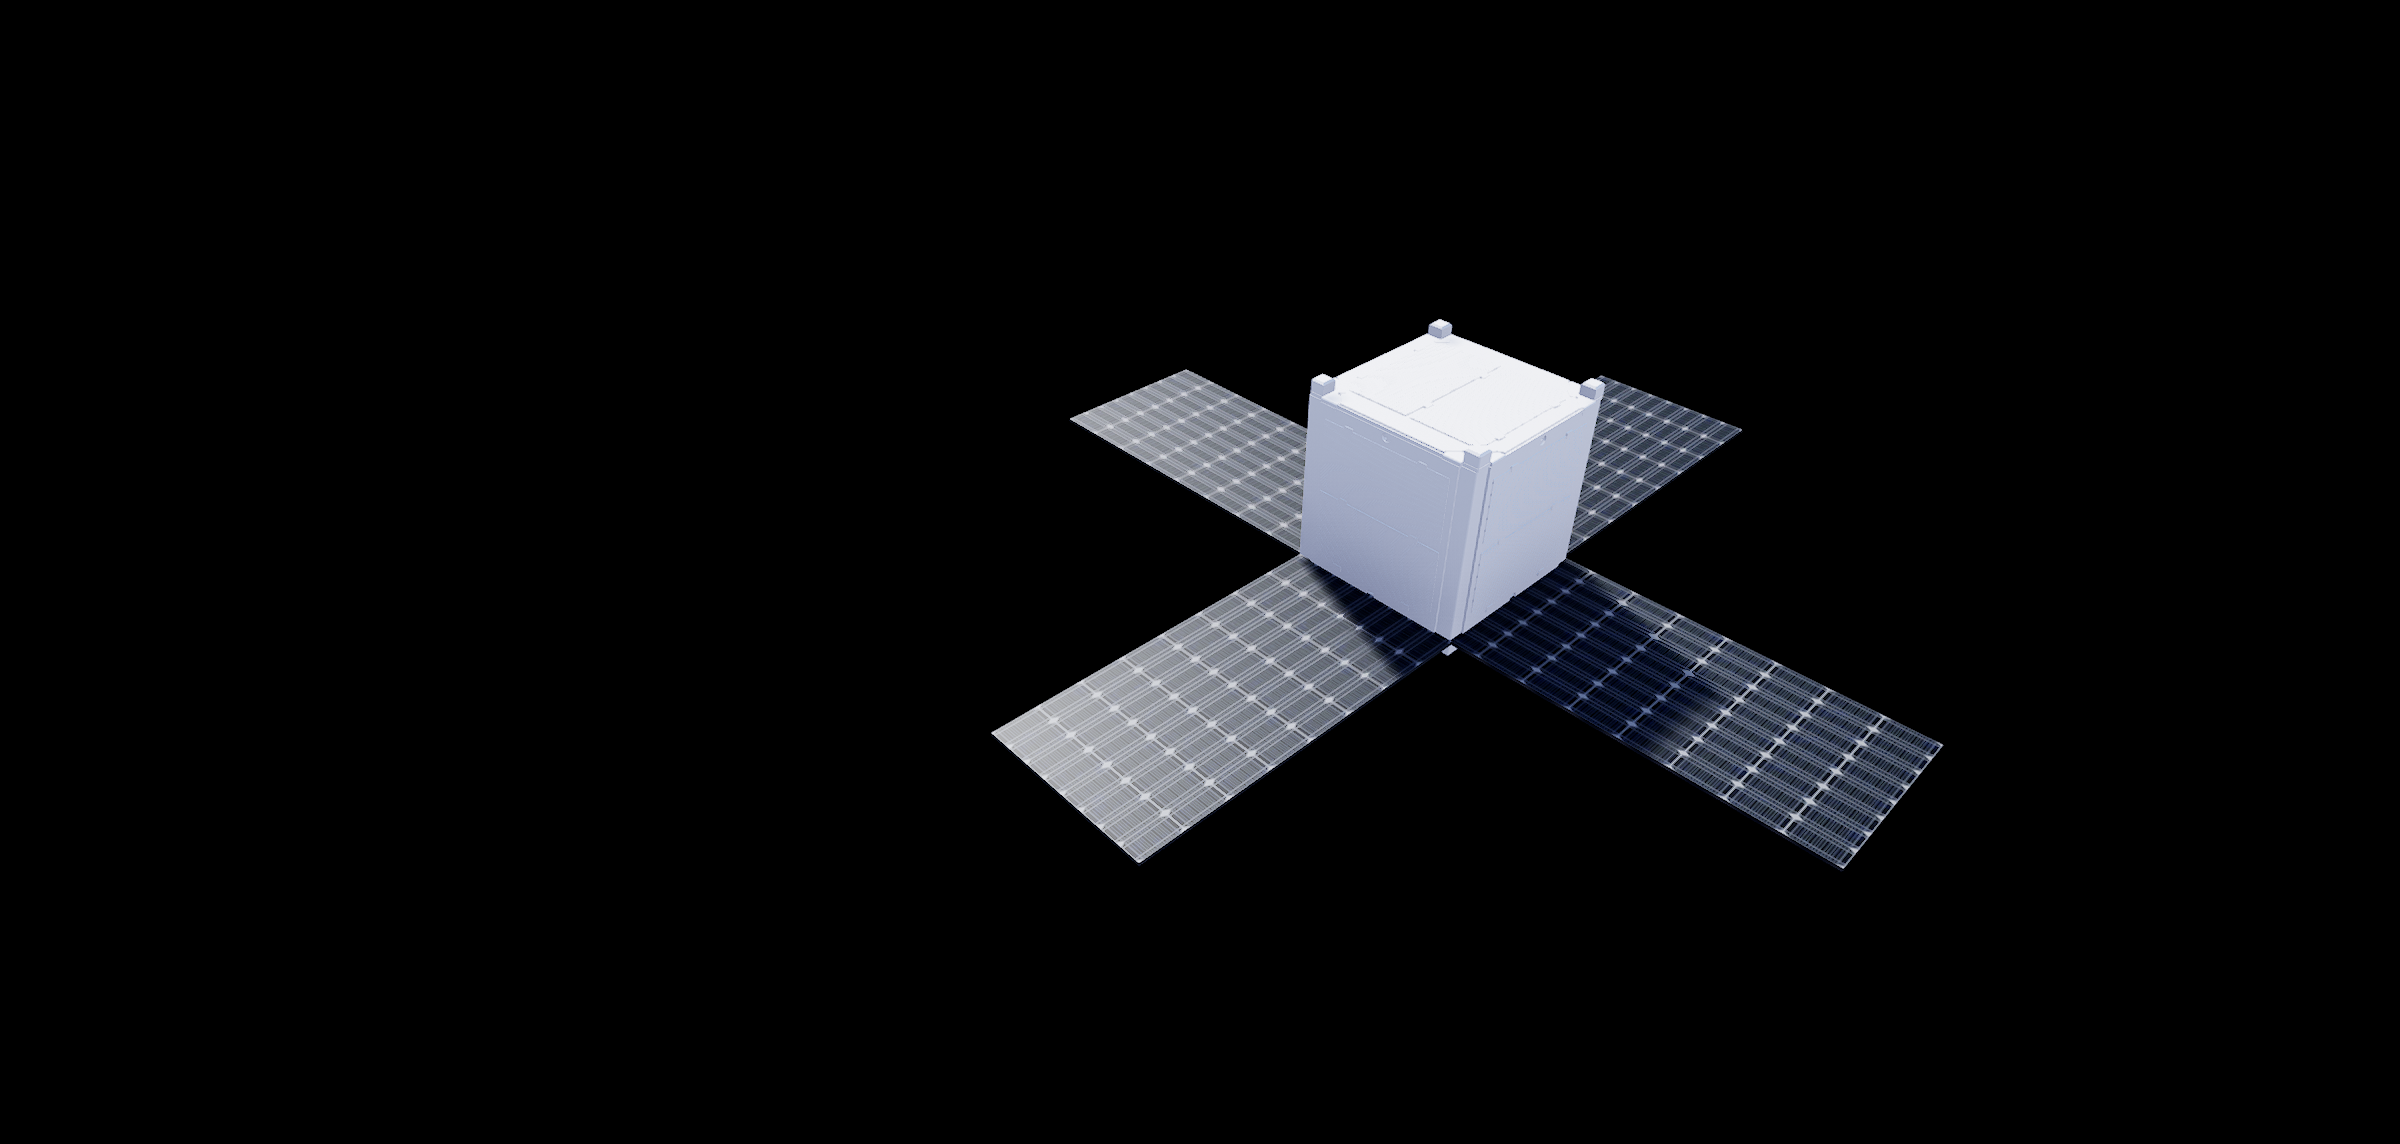satellite: (947, 276, 1965, 917)
